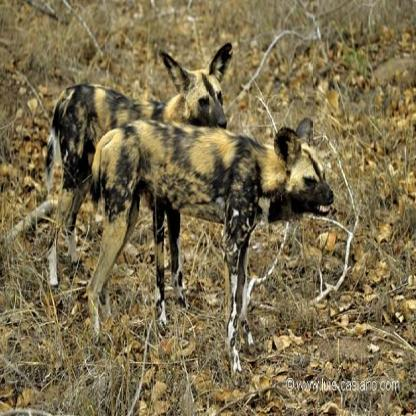African_hunting_dog: (79, 111, 332, 375), (42, 42, 234, 321)
